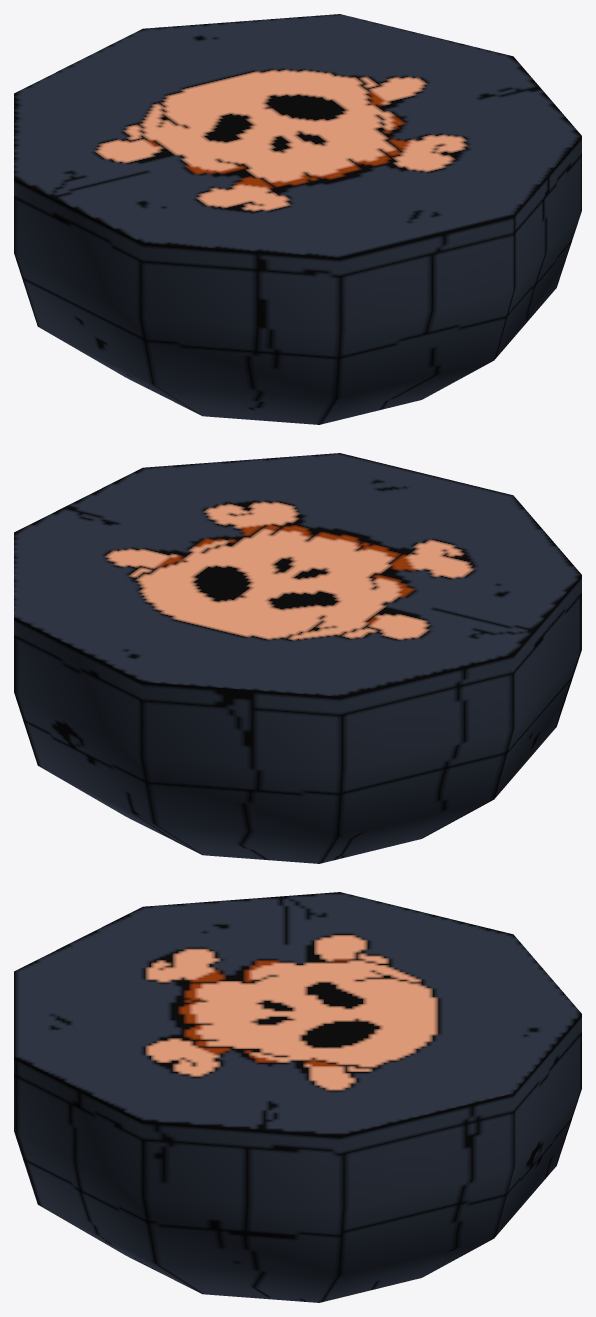
File: DeathPlatform.obj
The picture shows the model from 3 angles, top to bottom: view 1: azimuth 30°, elevation 25°; view 2: azimuth 150°, elevation 25°; view 3: azimuth 270°, elevation 25°; orthographic projection.
Parts seen in each view (by area): view 1: platform; view 2: platform; view 3: platform.
Boxes of the visible parts, left/top/right/bottom form: platform: left=14, top=14, right=581, bottom=424; platform: left=14, top=453, right=581, bottom=863; platform: left=14, top=892, right=581, bottom=1302.
Size of the model in its own units: 2 by 0.9393 by 1.97.
Materials: 1 (1 with a texture image).
